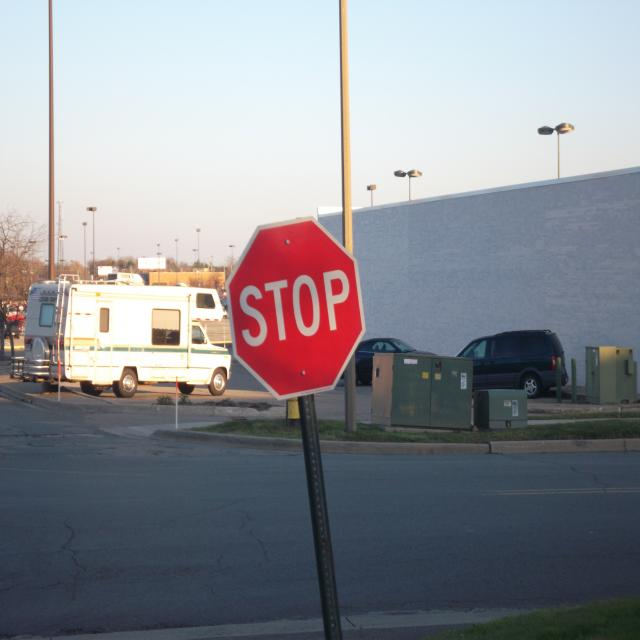stop: (223, 215, 369, 404)
